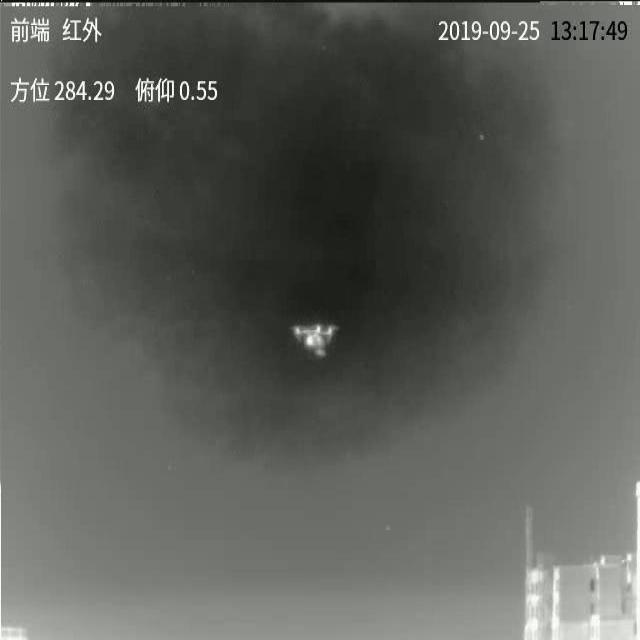drone: (290, 323, 340, 357)
